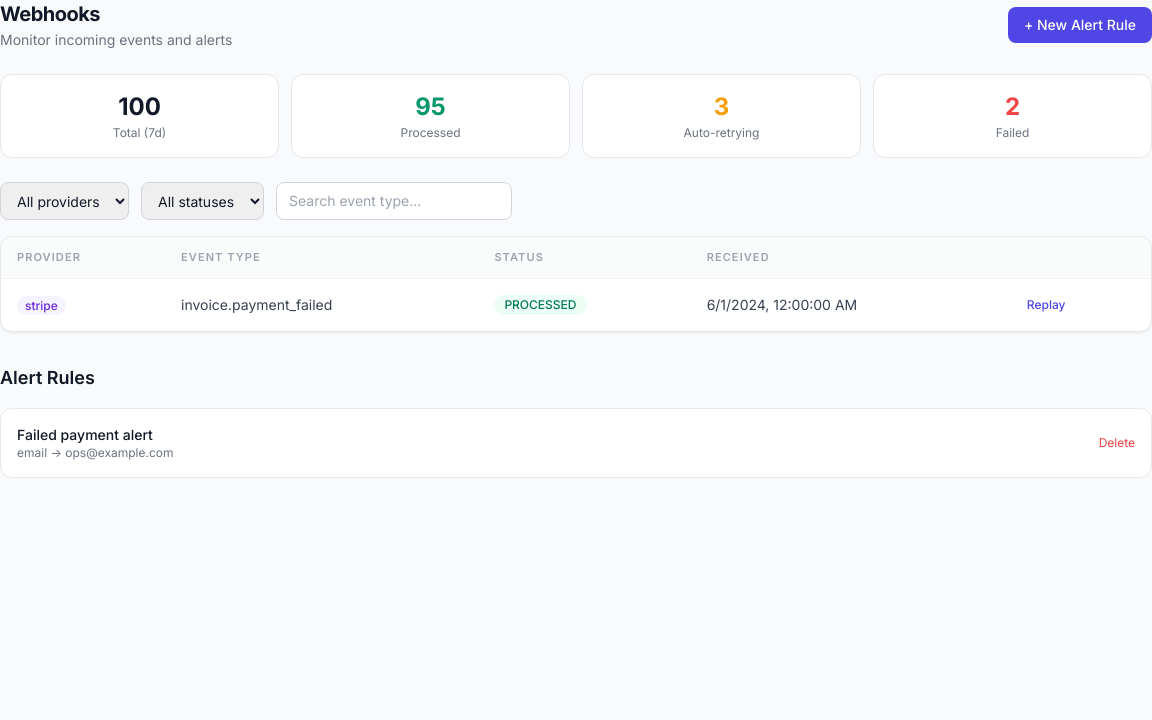
Test case: WebhooksPage › closes alert rule dialog on Cancel
What coordinates should you click on to do the following:
click the button "+ New Alert Rule"
I would click on:
 (1080, 25)
Its box is [1008,7,1151,43].
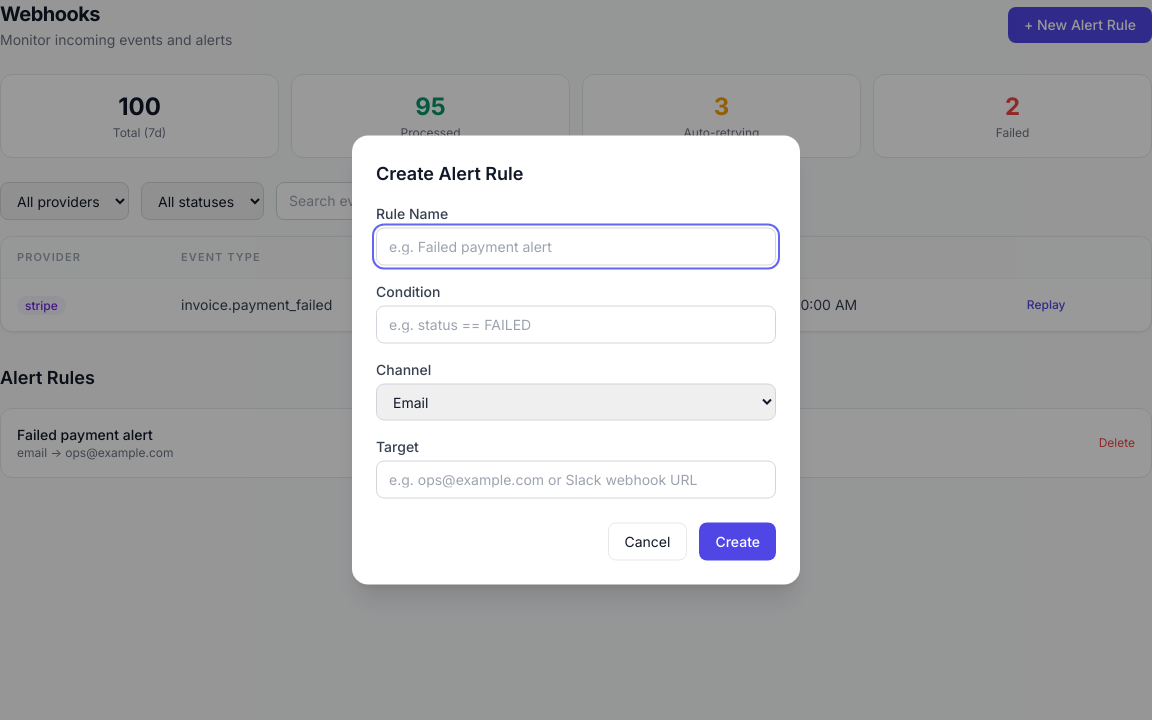
Now the heading "Create Alert Rule" is shown, box [376,162,524,184]
What coordinates should you click on to do the following:
click the button "Cancel"
I would click on:
 (647, 542)
Its box is [608,522,687,560].
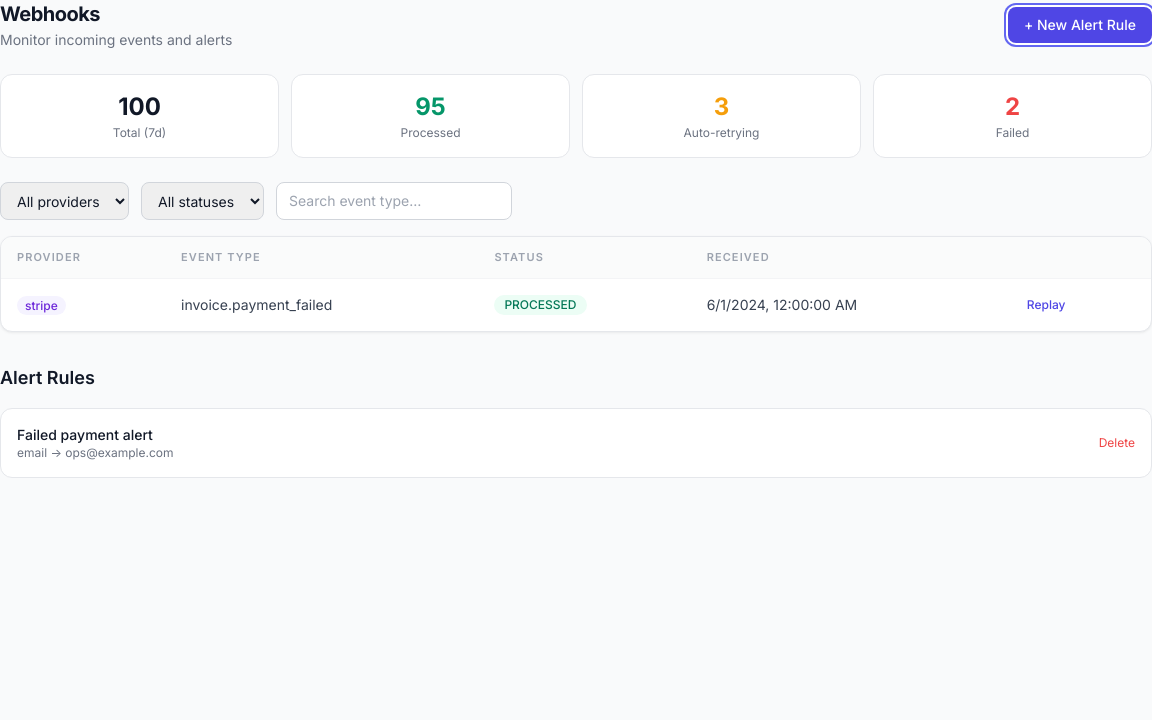
Now the heading "Create Alert Rule" is gone
